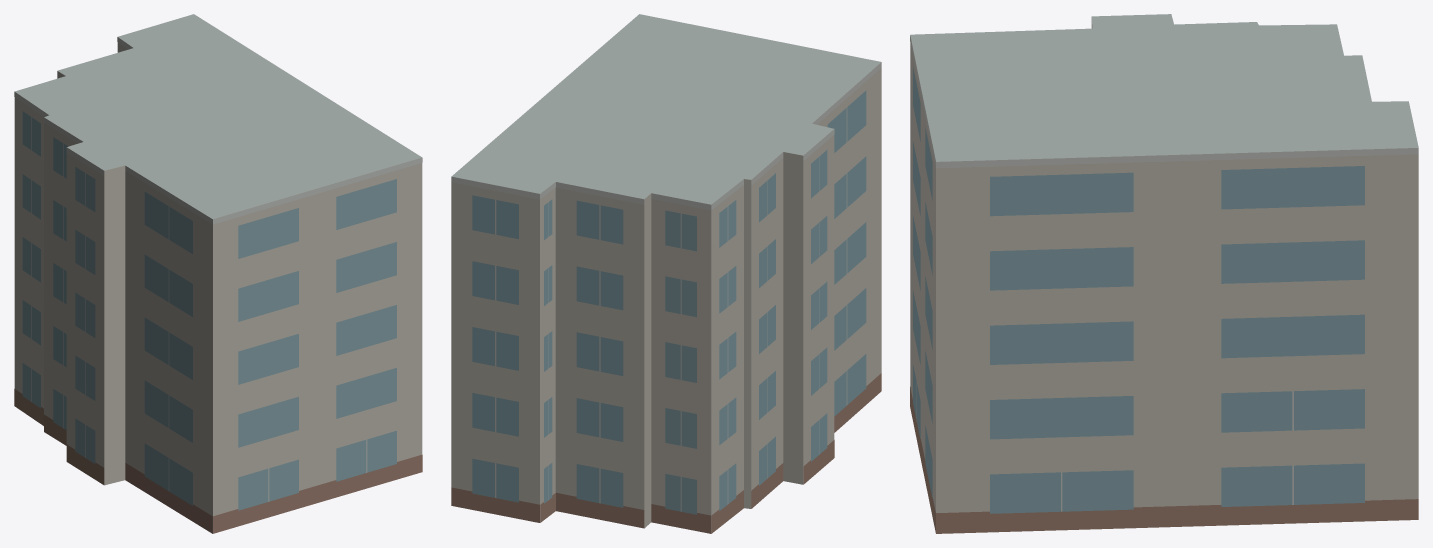
The model's file is survey-upis-33037623.glb.
3 renders of one model, left to right at view 1: azimuth 30°, elevation 25°; view 2: azimuth 150°, elevation 25°; view 3: azimuth 270°, elevation 25°, orthographic. The views are drawn at different scales.
Parts seen in each view (by area): view 1: survey-upis-33037623.tmp; view 2: survey-upis-33037623.tmp; view 3: survey-upis-33037623.tmp.
Part boxes in pixels (bbox=[...]): survey-upis-33037623.tmp: bbox=[14, 14, 422, 533]; survey-upis-33037623.tmp: bbox=[451, 14, 881, 533]; survey-upis-33037623.tmp: bbox=[910, 14, 1418, 533].
Size of the model in its own units: 12.29 by 14.4 by 17.86.
